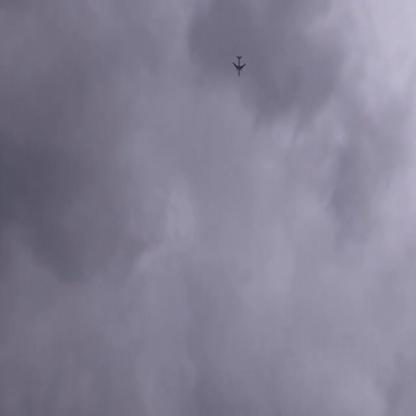CIV_Plane: (232, 55, 247, 79)
